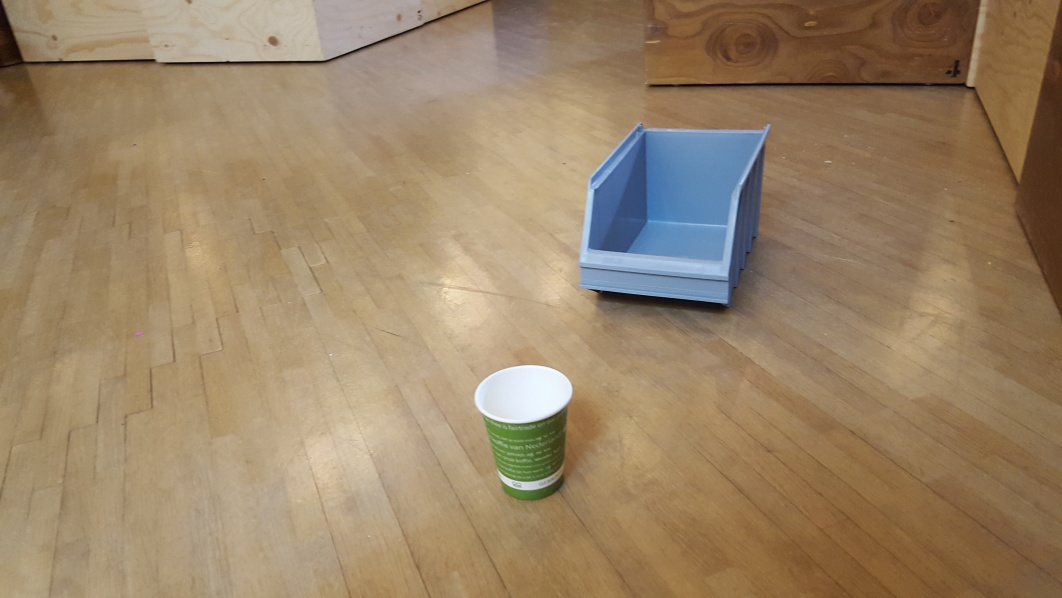cup: (472, 362, 575, 500)
tray: (578, 122, 775, 310)
